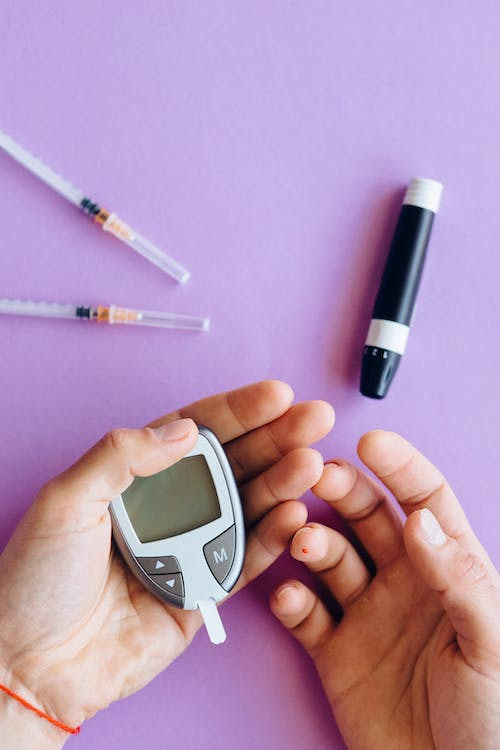blood: (298, 542, 311, 558)
